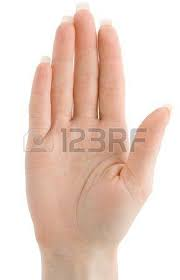palm: (32, 132, 139, 226)
